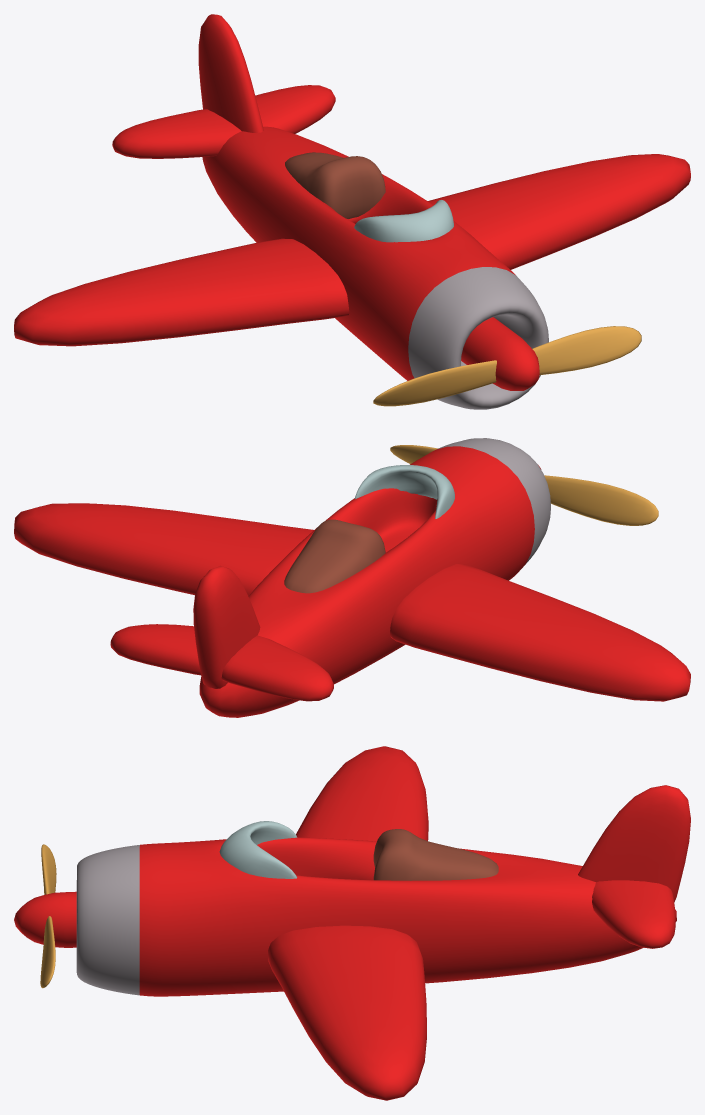
The picture shows the model from 3 angles, top to bottom: view 1: azimuth 30°, elevation 25°; view 2: azimuth 150°, elevation 25°; view 3: azimuth 270°, elevation 25°; orthographic projection. The views are drawn at different scales.
Visible parts, largest first — view 1: Cube, Cube.004, Cube.005; view 2: Cube, Cube.004, Cube.005; view 3: Cube, Cube.004, Cube.005.
Part boxes in pixels (box(x1,y1,x2,y2)): Cube: box(14, 14, 690, 409); Cube.004: box(285, 152, 385, 218); Cube.005: box(354, 200, 453, 242); Cube: box(14, 438, 690, 717); Cube.004: box(284, 519, 385, 593); Cube.005: box(354, 465, 454, 518); Cube: box(14, 746, 690, 1100); Cube.004: box(373, 829, 498, 880); Cube.005: box(219, 821, 297, 878).
Bounding box in the file's own units: 5.71 × 1.6 × 4.82.
